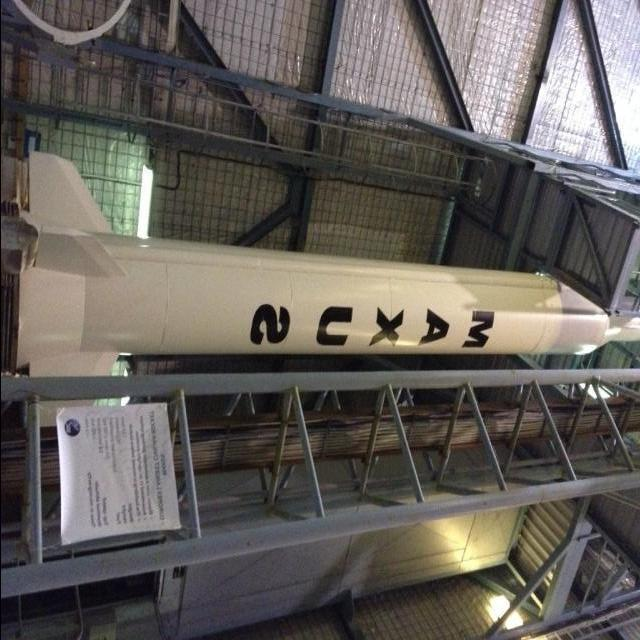missile: (16, 148, 612, 390)
